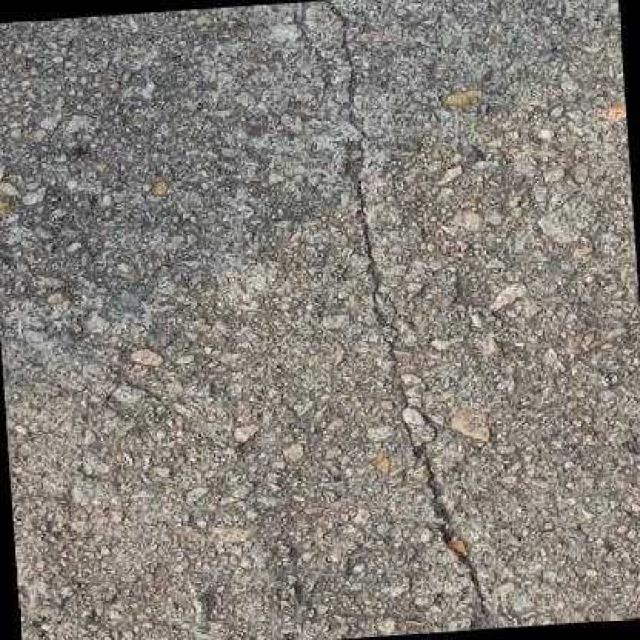D00: (316, 0, 493, 610)
